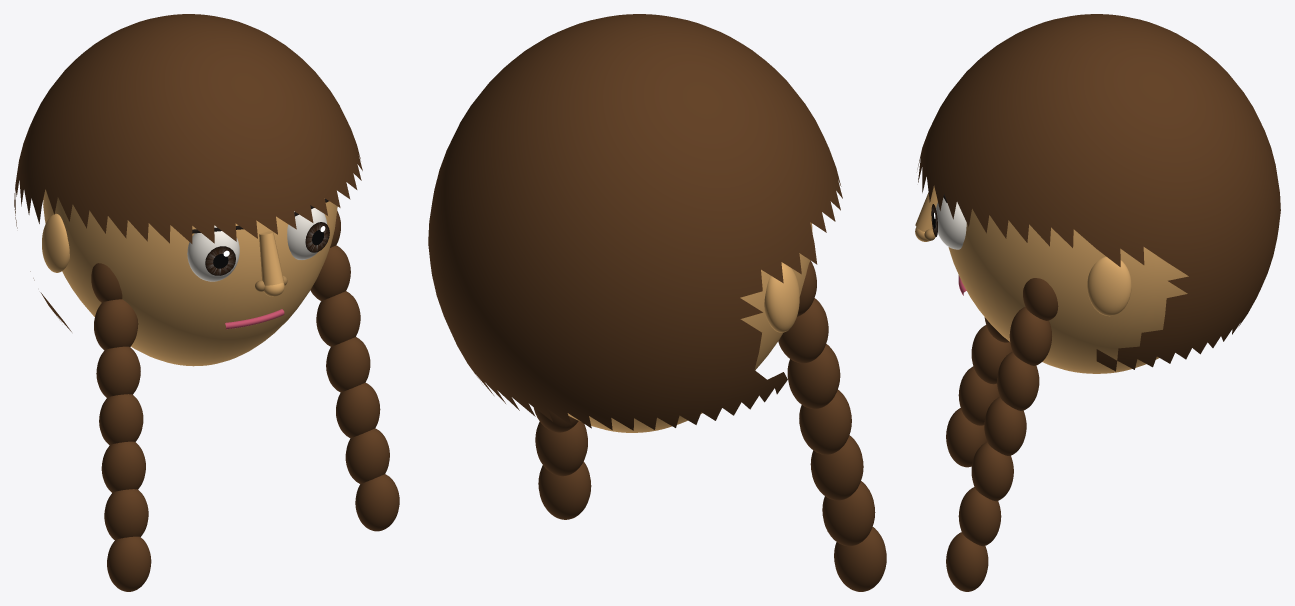
File: femme-09-tresses.glb
The picture shows the model from 3 angles, left to right: view 1: azimuth 30°, elevation 25°; view 2: azimuth 150°, elevation 25°; view 3: azimuth 270°, elevation 25°; orthographic projection. The views are drawn at different scales.
Size of the model in its own units: 0.3363 by 0.5185 by 0.3446.
Materials: 11 (1 with a texture image).
